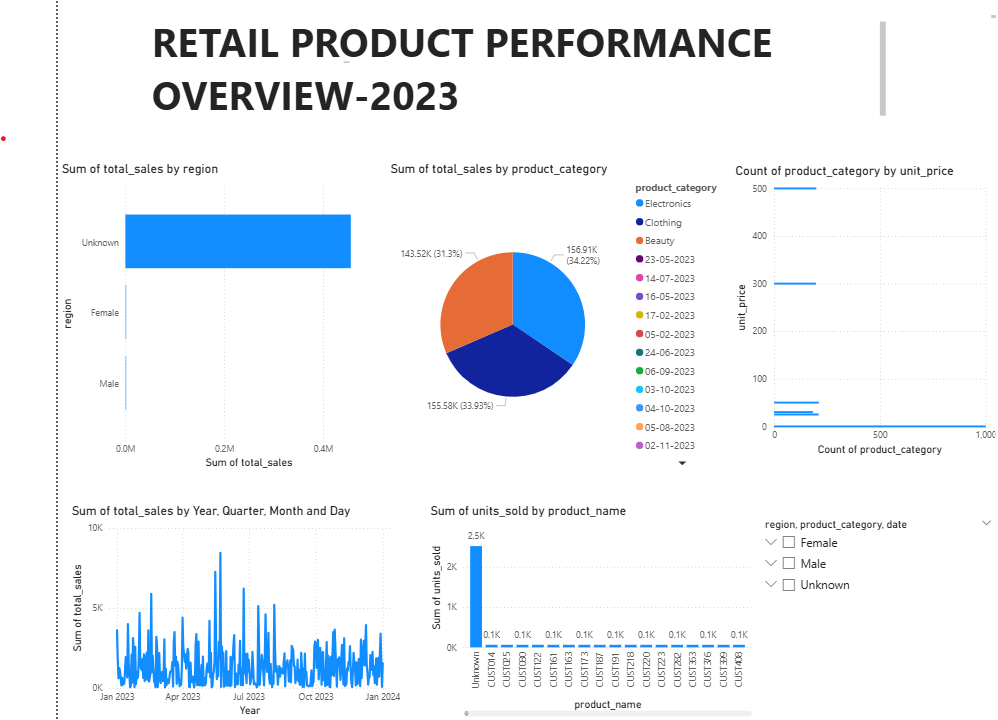

The dashboard page shown, as its layout file describes it:
{"tool":"powerbi","page":{"name":"Page 1","canvas":[1280,1000],"ordinal":0},"visuals":[{"type":"lineChart","fields":{"Y":["Sum(sales_data sales_data.total_sales)"],"Category":["sales_data sales_data.date.Variation.Date Hierarchy.Year","sales_data sales_data.date.Variation.Date Hierarchy.Quarter","sales_data sales_data.date.Variation.Date Hierarchy.Month","sales_data sales_data.date.Variation.Date Hierarchy.Day"]},"box":[13.6,704.8,456.9,295.5],"z":0},{"type":"pieChart","fields":{"Y":["Sum(sales_data sales_data.total_sales)"],"Category":["sales_data sales_data.product_category"]},"box":[446.7,241.2,468.8,422.9],"z":1000},{"type":"columnChart","fields":{"Category":["sales_data sales_data.product_name"],"Y":["Sum(sales_data sales_data.units_sold)"]},"box":[501,704.8,446.7,295.5],"z":2000},{"type":"clusteredBarChart","fields":{"Y":["Sum(sales_data sales_data.total_sales)"],"Category":["sales_data sales_data.region"]},"box":[0,241.2,446.7,422.9],"z":3000},{"type":"barChart","fields":{"Y":["CountNonNull(sales_data sales_data.product_category)"],"Category":["sales_data sales_data.unit_price"]},"box":[915.4,242.9,365.2,402.5],"z":4000},{"type":"slicer","fields":{"Values":["sales_data sales_data.region","sales_data sales_data.product_category","sales_data sales_data.date"]},"box":[947.7,720.1,332.9,280.2],"z":5000},{"type":"textbox","box":[100,100,300,300],"z":6000},{"type":"textbox","box":[100,100,300,300],"z":7000},{"type":"textbox","box":[100,100,300,300],"z":8000},{"type":"textbox","box":[447,91,448,150],"z":8001},{"type":"textbox","box":[122.3,37.4,1007.1,149.5],"z":8002},{"type":"textbox","box":[100,100,300,300],"z":8003},{"type":"textbox","box":[100,100,300,300],"z":8004},{"type":"textbox","box":[100,100,300,300],"z":8005},{"type":"textbox","box":[100,100,300,300],"z":8006},{"type":"textbox","box":[100,100,300,300],"z":8007}]}

Visuals, with their boxes on the page's 1280x1000 design canvas (x1, y1, x2, y2). These are canvas units, not pixel positions in the 998x720 screenshot, which may show the page scaled, cropped or inside an application window:
lineChart - Sum(sales_data sales_data.total_sales) x sales_data sales_data.date.Variation.Date Hierarchy.Year: bbox=(14, 705, 470, 1000)
pieChart - Sum(sales_data sales_data.total_sales) x sales_data sales_data.product_category: bbox=(447, 241, 916, 664)
columnChart - sales_data sales_data.product_name x Sum(sales_data sales_data.units_sold): bbox=(501, 705, 948, 1000)
clusteredBarChart - Sum(sales_data sales_data.total_sales) x sales_data sales_data.region: bbox=(0, 241, 447, 664)
barChart - CountNonNull(sales_data sales_data.product_category) x sales_data sales_data.unit_price: bbox=(915, 243, 1281, 645)
slicer - sales_data sales_data.region x sales_data sales_data.product_category: bbox=(948, 720, 1281, 1000)
textbox: bbox=(100, 100, 400, 400)
textbox: bbox=(100, 100, 400, 400)
textbox: bbox=(100, 100, 400, 400)
textbox: bbox=(447, 91, 895, 241)
textbox: bbox=(122, 37, 1129, 187)
textbox: bbox=(100, 100, 400, 400)
textbox: bbox=(100, 100, 400, 400)
textbox: bbox=(100, 100, 400, 400)
textbox: bbox=(100, 100, 400, 400)
textbox: bbox=(100, 100, 400, 400)
